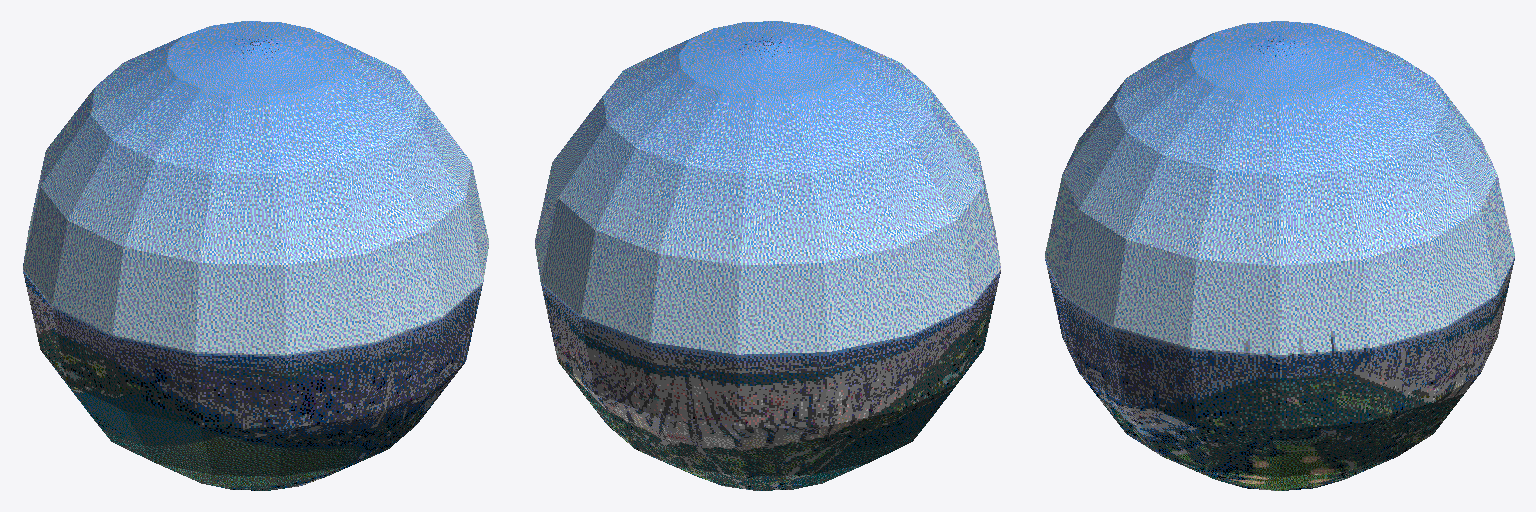
3 renders of one model, left to right at view 1: azimuth 30°, elevation 25°; view 2: azimuth 150°, elevation 25°; view 3: azimuth 270°, elevation 25°, orthographic.
Visible parts, largest first — view 1: Sphere; view 2: Sphere; view 3: Sphere.
Part boxes in pixels (left/top/right/bottom): Sphere: left=23, top=21, right=488, bottom=490; Sphere: left=535, top=21, right=1000, bottom=490; Sphere: left=1045, top=21, right=1514, bottom=490.
Bounding box in the file's own units: 2 × 2 × 2.
Materials: 1 (1 with a texture image).